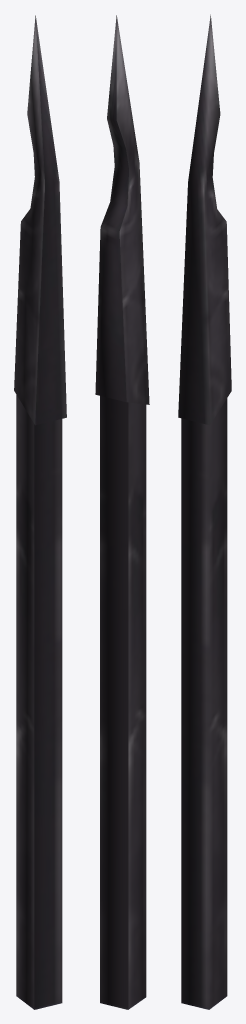
Rendered from Beidaying_tiegun01.FBX.
3 renders of one model, left to right at view 1: azimuth 30°, elevation 25°; view 2: azimuth 150°, elevation 25°; view 3: azimuth 330°, elevation 25°, orthographic.
Visible parts, largest first — view 1: Beidaying_tiegun01; view 2: Beidaying_tiegun01; view 3: Beidaying_tiegun01.
Boxes of the visible parts, left/top/right/bottom form: Beidaying_tiegun01: left=14, top=15, right=66, bottom=1009; Beidaying_tiegun01: left=95, top=15, right=149, bottom=1009; Beidaying_tiegun01: left=178, top=14, right=231, bottom=1009.
Bounding box in the file's own units: 10.64 × 12.81 × 315.
